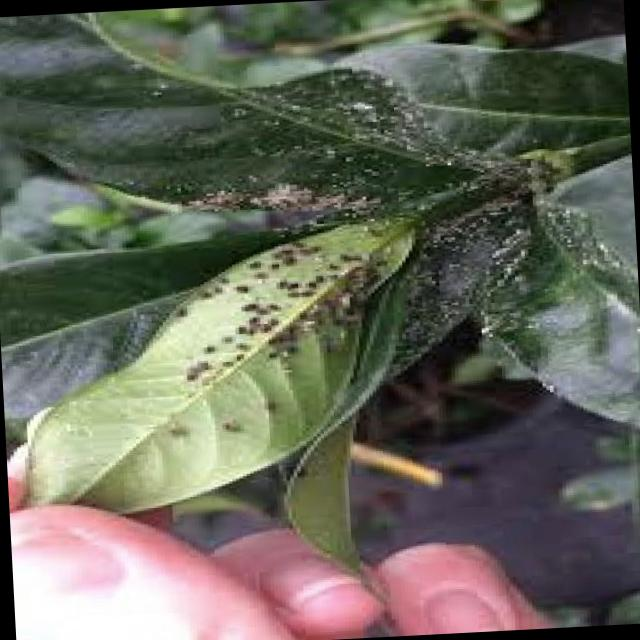aphid: (268, 342, 306, 364), (154, 424, 191, 446), (212, 416, 244, 441), (218, 284, 260, 302), (178, 287, 220, 305), (227, 300, 264, 320), (190, 341, 222, 361), (172, 369, 202, 388), (254, 399, 284, 418), (291, 286, 321, 305), (265, 278, 295, 296), (236, 257, 268, 273), (272, 253, 302, 270), (158, 308, 188, 324), (304, 270, 332, 287), (224, 324, 251, 341), (280, 285, 303, 304), (329, 252, 356, 268), (260, 313, 282, 332), (226, 351, 248, 366)
